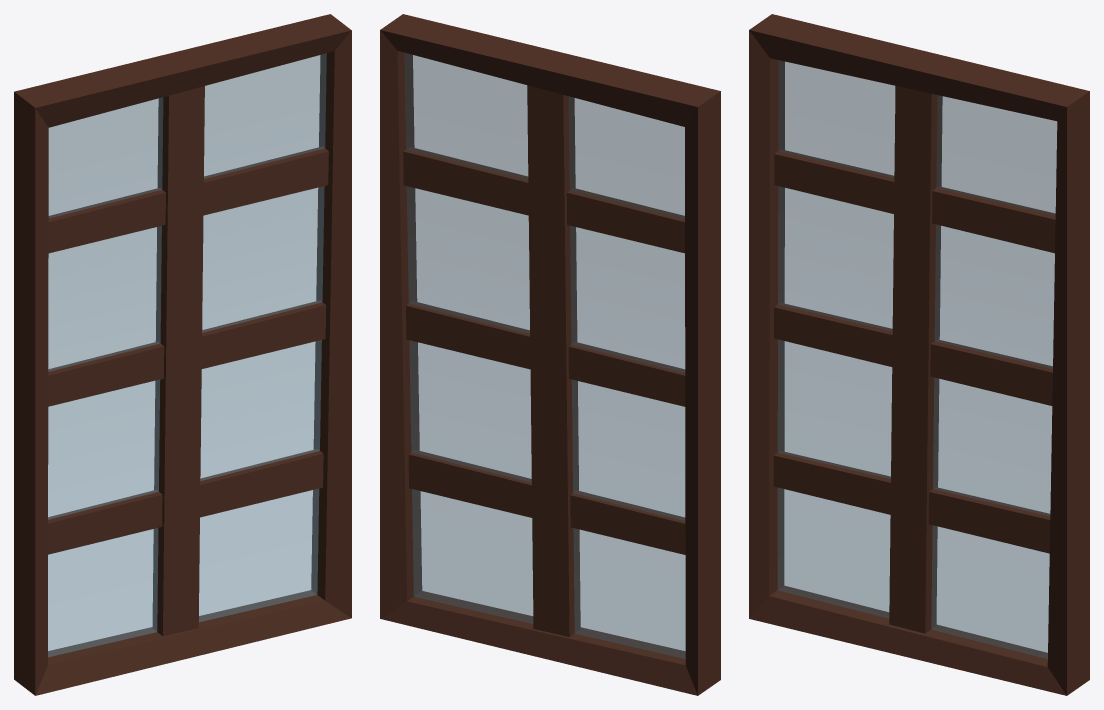
The model's file is Window 2x4 Glass Panel.glb.
3 renders of one model, left to right at view 1: azimuth 30°, elevation 25°; view 2: azimuth 150°, elevation 25°; view 3: azimuth 330°, elevation 25°, orthographic.
Visible parts, largest first — view 1: Window 2x4 glass panel; view 2: Window 2x4 glass panel; view 3: Window 2x4 glass panel.
Part boxes in pixels (box(x1,y1,x2,y2)): Window 2x4 glass panel: box(14, 14, 351, 695); Window 2x4 glass panel: box(380, 14, 720, 695); Window 2x4 glass panel: box(749, 14, 1089, 695).
Bounding box in the file's own units: 0.8881 × 1.57 × 0.1091.
Materials: 2 (2 with a texture image).
